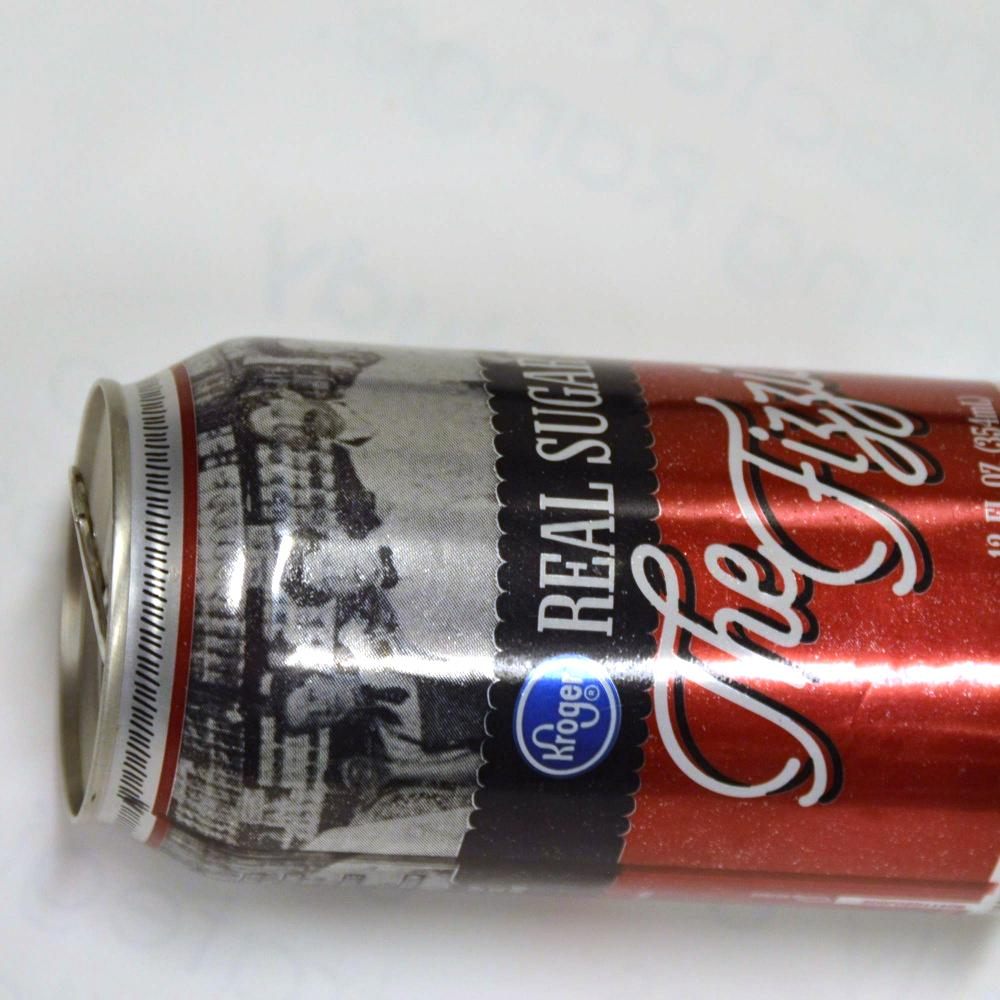Metal: (53, 310, 926, 933)
